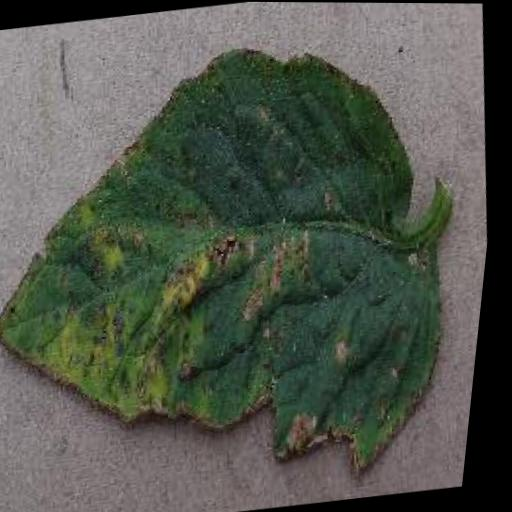Bacterial Spot: (0, 15, 502, 512)
